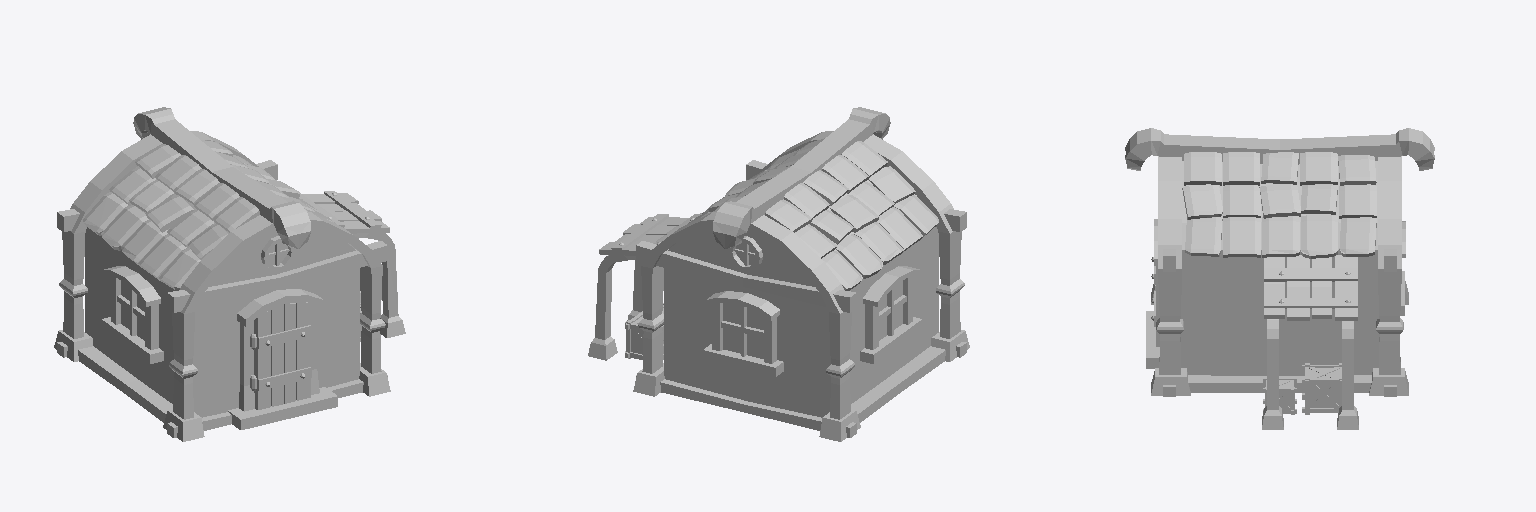
Rendered from AllHouse.obj.
3 renders of one model, left to right at view 1: azimuth 30°, elevation 25°; view 2: azimuth 150°, elevation 25°; view 3: azimuth 270°, elevation 25°, orthographic.
Parts seen in each view (by area): view 1: Cube, Cube.001, Cube.005, Cube.002; view 2: Cube, Cube.001, Cube.005, Cube.002, Cube.003; view 3: Cube, Cube.001, Cube.005, Cube.003, Cube.010.
Boxes of the visible parts, box(x1,y1,x2,y2) form: Cube: box(54, 107, 390, 441); Cube.001: box(83, 140, 335, 290); Cube.005: box(298, 191, 405, 337); Cube.002: box(261, 236, 295, 271); Cube: box(633, 107, 969, 441); Cube.001: box(688, 138, 938, 290); Cube.005: box(588, 213, 701, 360); Cube.002: box(728, 236, 762, 271); Cube.003: box(625, 310, 663, 359); Cube: box(1125, 128, 1434, 396); Cube.001: box(1182, 152, 1376, 258); Cube.005: box(1262, 255, 1358, 429); Cube.003: box(1302, 363, 1341, 414); Cube.010: box(1263, 377, 1296, 414).
Size of the model in its own units: 4.77 by 3.42 by 4.55.